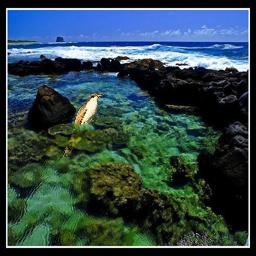Cuckoo: (61, 92, 105, 158)
